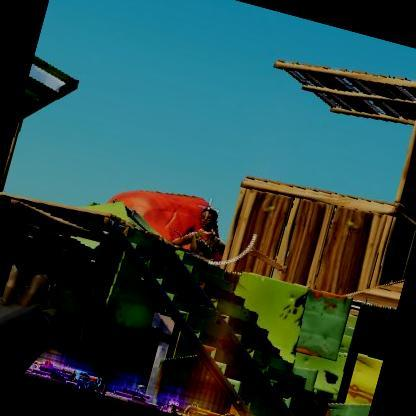person: (168, 199, 235, 263)
